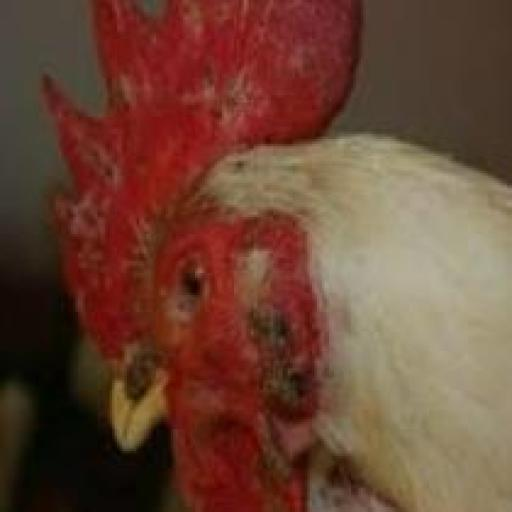disease: (235, 301, 325, 425), (169, 61, 282, 138), (238, 439, 304, 511), (67, 212, 128, 270), (152, 284, 208, 346), (70, 142, 133, 194), (104, 70, 150, 120)
